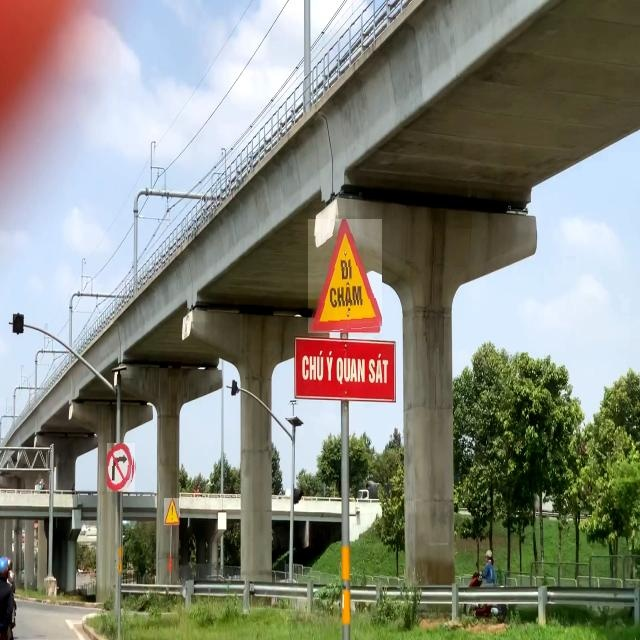bien_chi_dan: (308, 219, 382, 333), (108, 443, 136, 492), (164, 498, 180, 525)
